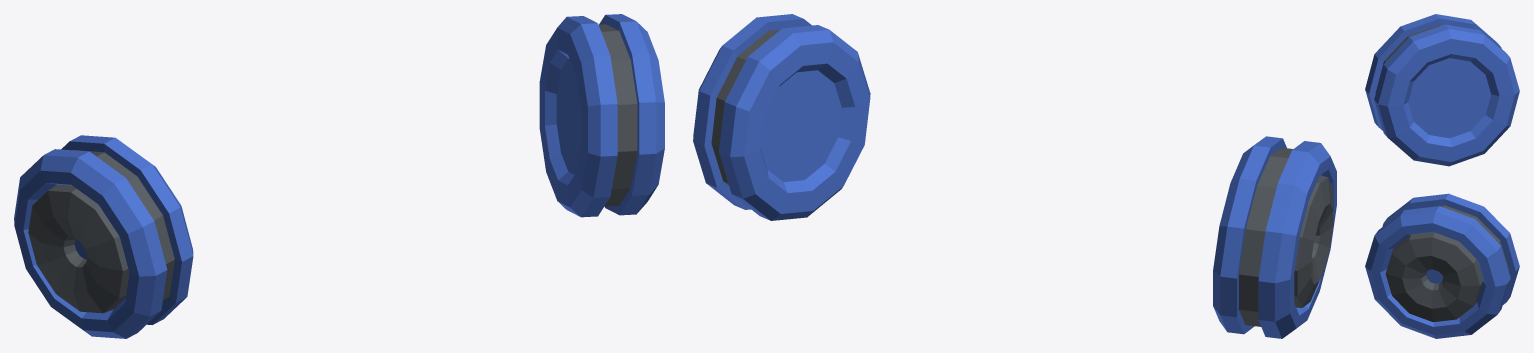
Rendered from Dropship_05_Ammo_Tanks_Blue.fbx.
The picture shows the model from 3 angles, left to right: view 1: azimuth 30°, elevation 25°; view 2: azimuth 150°, elevation 25°; view 3: azimuth 270°, elevation 25°; orthographic projection. The views are drawn at different scales.
Parts seen in each view (by area): view 1: Dropship_05_Ammo_Tanks_Blue; view 2: Dropship_05_Ammo_Tanks_Blue; view 3: Dropship_05_Ammo_Tanks_Blue.
Part boxes in pixels (x1,y1,x2,y2): Dropship_05_Ammo_Tanks_Blue: (14,14,664,338); Dropship_05_Ammo_Tanks_Blue: (693,14,1336,338); Dropship_05_Ammo_Tanks_Blue: (1365,14,1519,338).
Bounding box in the file's own units: 405 × 118 × 124.
Materials: 1 (1 with a texture image).
